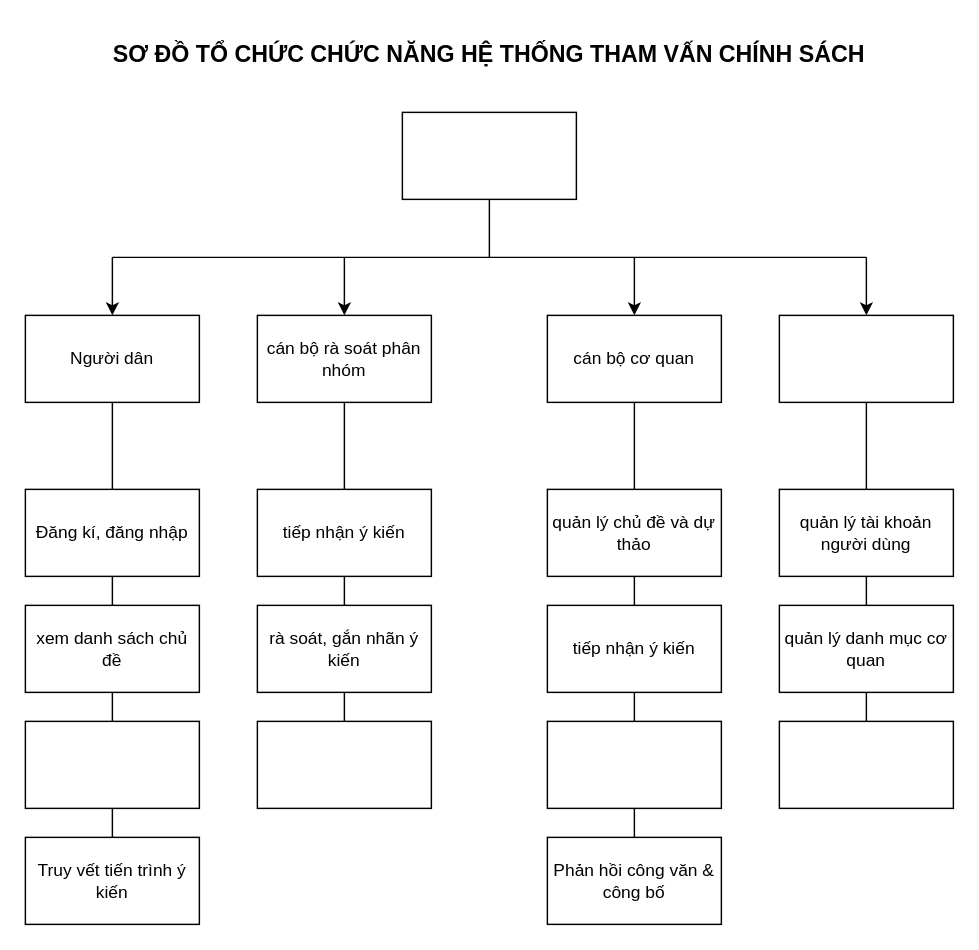
The diagram is 979 pixels wide and 950 high, and some of its shapes have lost their labels. The shapes that lost their labels are listed below. From the top down, each one's centre as x and y in pixels, then its label:
point (488, 155): Hệ thống tham vấn chính sách
point (865, 358): quản trị viên
point (111, 764): Gửi ý kiến tham vấn
point (343, 764): Phân nhóm ý kiến theo chuyên môn
point (633, 764): cập nhật quy trình xử lý
point (865, 764): xem thống kê
